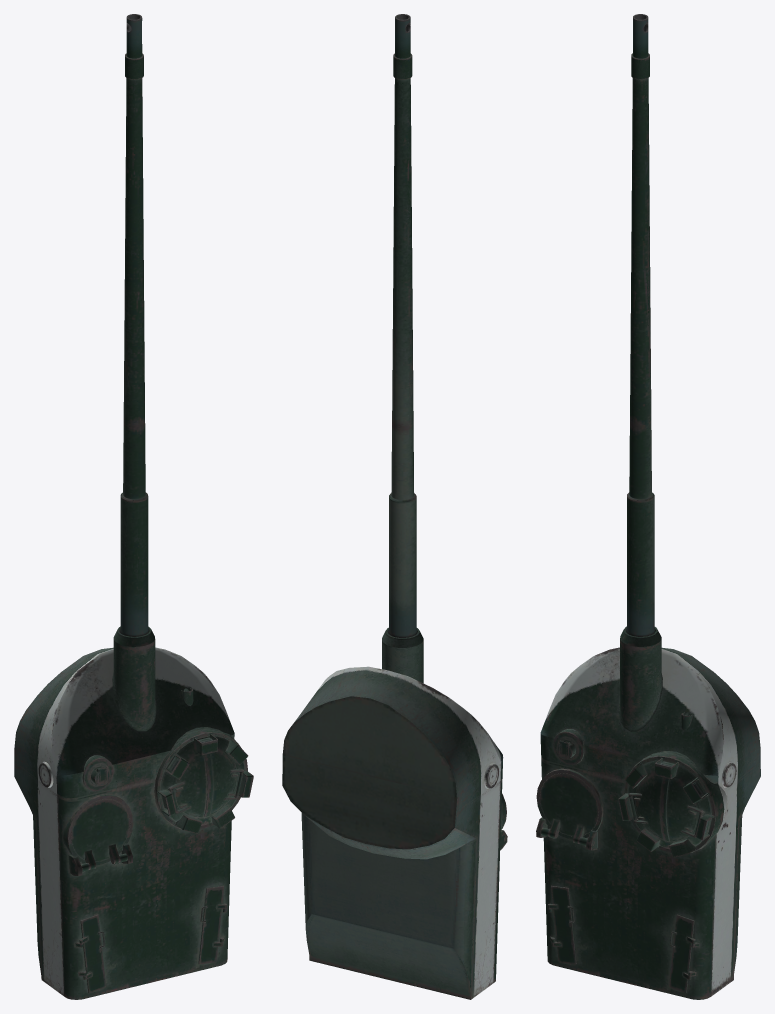
The model's file is Gun_01.glb.
The picture shows the model from 3 angles, left to right: view 1: azimuth 30°, elevation 25°; view 2: azimuth 150°, elevation 25°; view 3: azimuth 330°, elevation 25°; orthographic projection.
Visible parts, largest first — view 1: set_0_group_0; view 2: set_0_group_0; view 3: set_0_group_0.
Boxes of the visible parts, x1=… form: set_0_group_0: x1=14, y1=14, x2=253, y2=999; set_0_group_0: x1=282, y1=14, x2=507, y2=999; set_0_group_0: x1=536, y1=14, x2=760, y2=999.
Bounding box in the file's own units: 1.5 × 7.44 × 0.89.
Materials: 1 (1 with a texture image).
